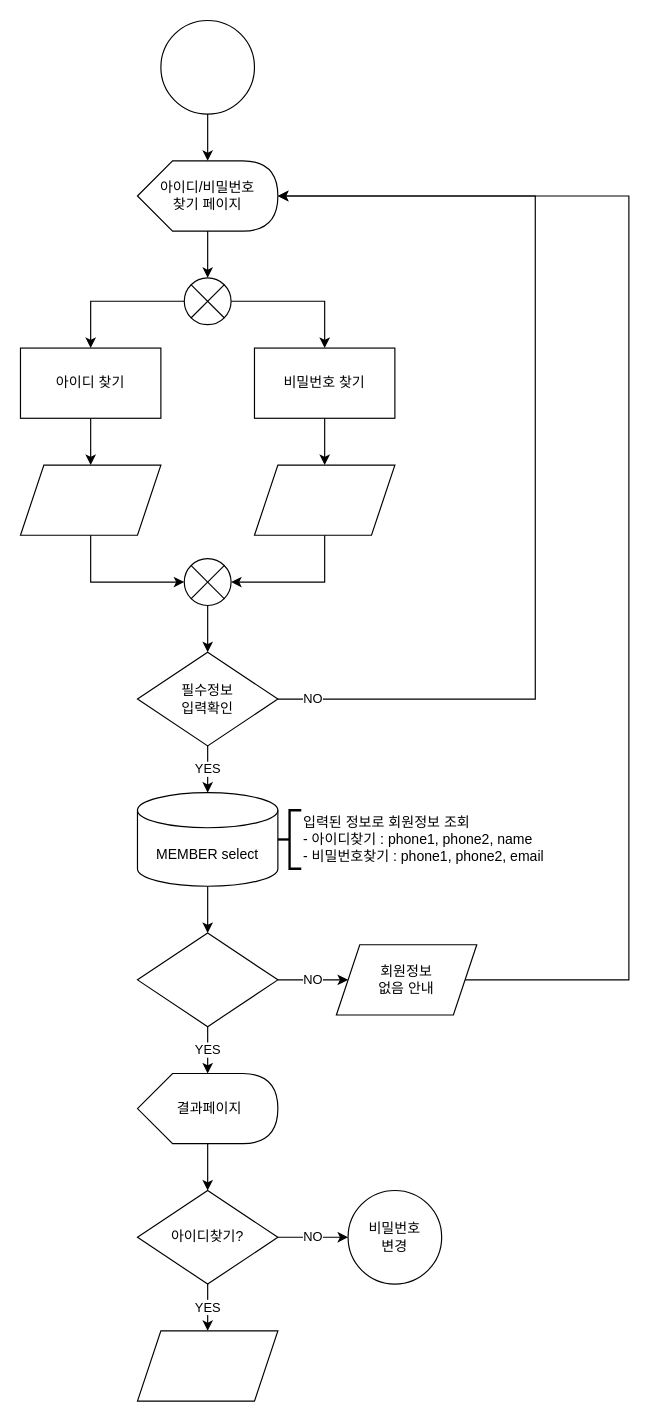
Image size: 659x1422. Some labels were removed from this diagram. Here are the shapes that lost their labels. From the top down, the centre of each, then its label:
the point at 207,66: 아이디/ 비밀번호 찾기
the point at 90,499: 정보입력 (전화번호, 이름)
the point at 324,499: 정보입력 (전화번호, 이메일)
the point at 207,979: 회원정보 존재
the point at 207,1365: 이메일 @앞부분 출력
